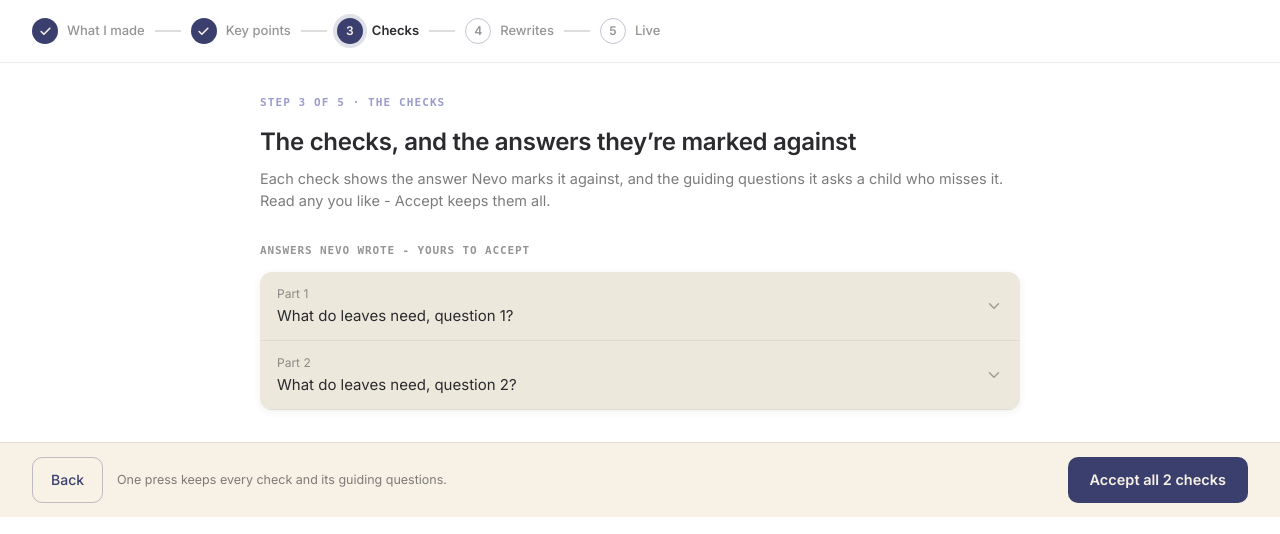
Test case: the one press › signs the checks, then their guiding questions, each with the hash it was shown
expect the navigation bar named "Lesson review steps" is shown: met, box [0,0,1279,63]
Click the button "Accept all 2 checks": (1158, 480) [1068,457,1248,503]
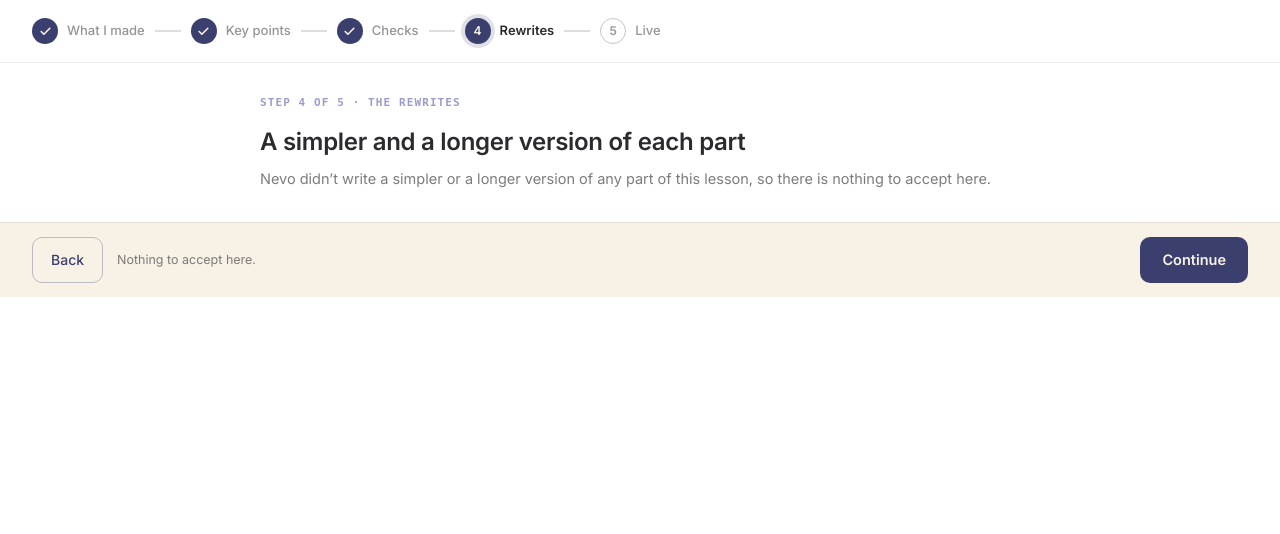
expect the text "Step 4 of 5 · the rewrites" is shown: met, box [260,96,461,109]
